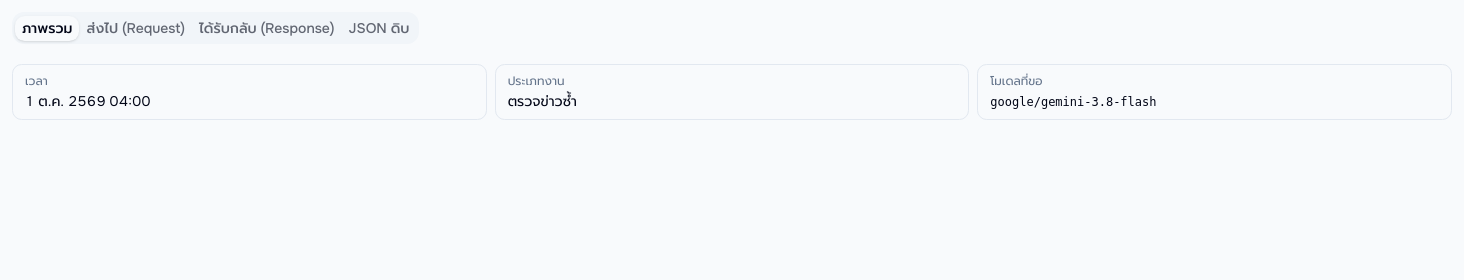
it: PromptLogView (detailed) › falls back gracefully for logs recorded before full capture
Click the tab "ส่งไป (Request)" at (136, 28), box x1=79 y1=16 x2=192 y2=40
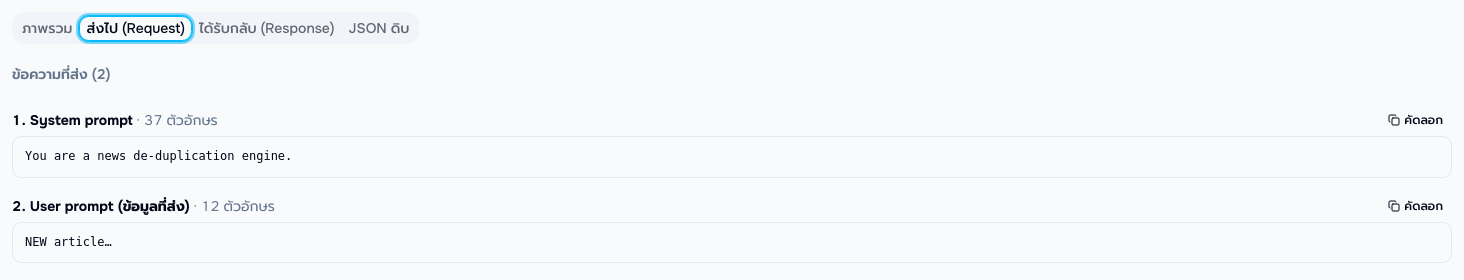
Expected: the text "You are a news de-duplication engine." is shown, x1=12 y1=136 x2=1452 y2=178
Click the tab "ได้รับกลับ (Response)" at (267, 28), box x1=192 y1=16 x2=342 y2=40
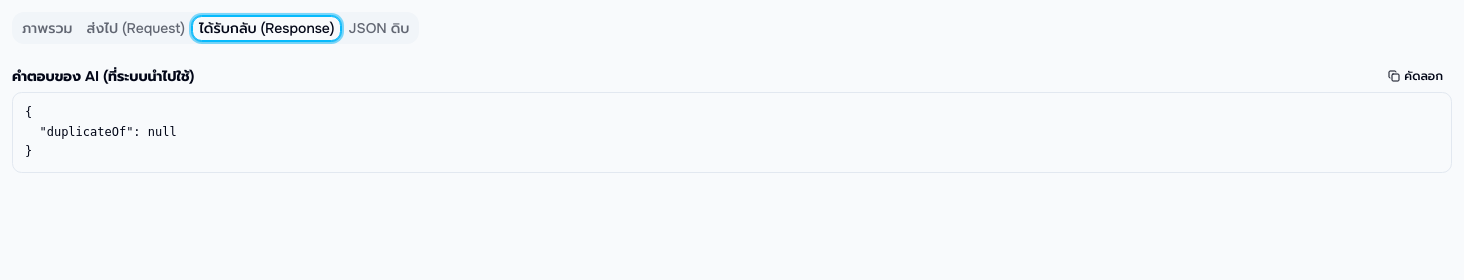
Expected: the text "{ \"duplicateOf\": null }" is shown, x1=12 y1=92 x2=1452 y2=172
Click the tab "JSON ดิบ" at (379, 28), box x1=341 y1=16 x2=416 y2=40
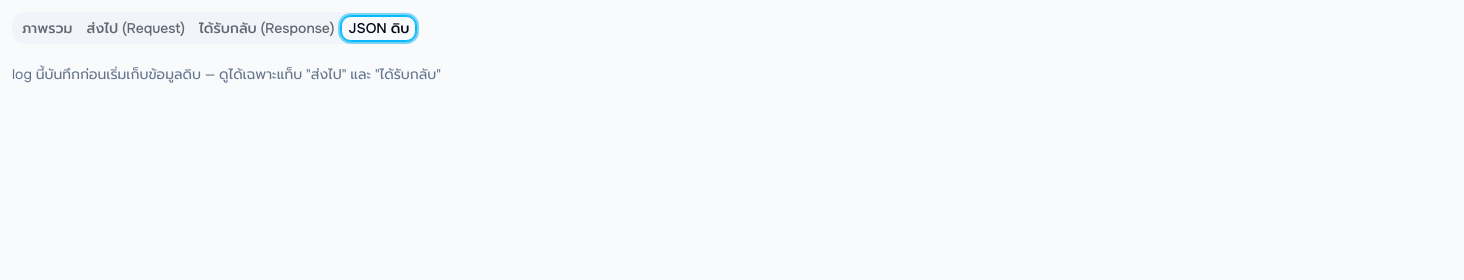
Expected: the text "บันทึกก่อนเริ่มเก็บข้อมูลดิบ" is shown, x1=12 y1=65 x2=441 y2=83
